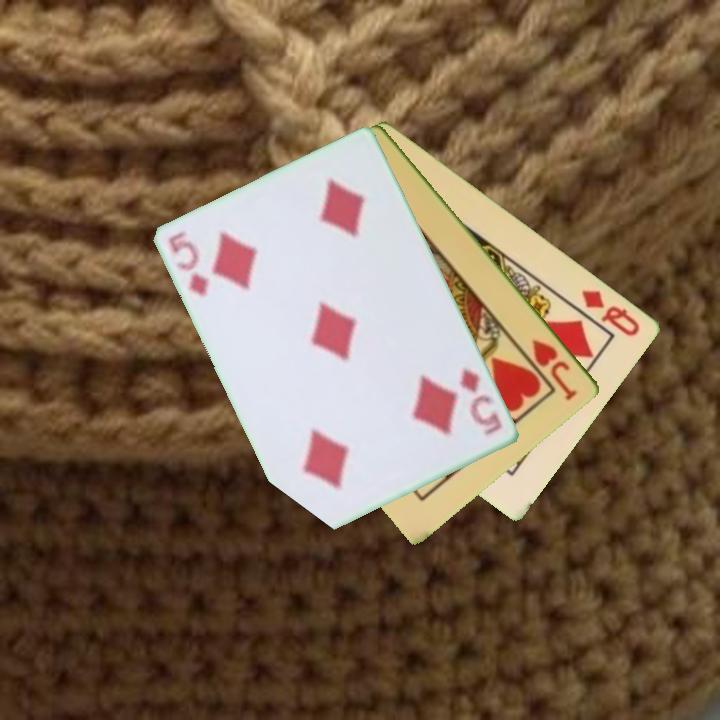5d: (457, 364, 506, 439), (165, 228, 213, 301)
Jh: (529, 336, 581, 404)
Qd: (578, 286, 644, 340)
